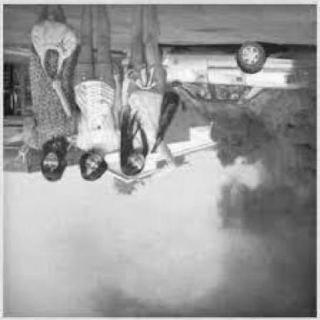Fire: (174, 75, 308, 149)
Smoke: (203, 146, 311, 307)
